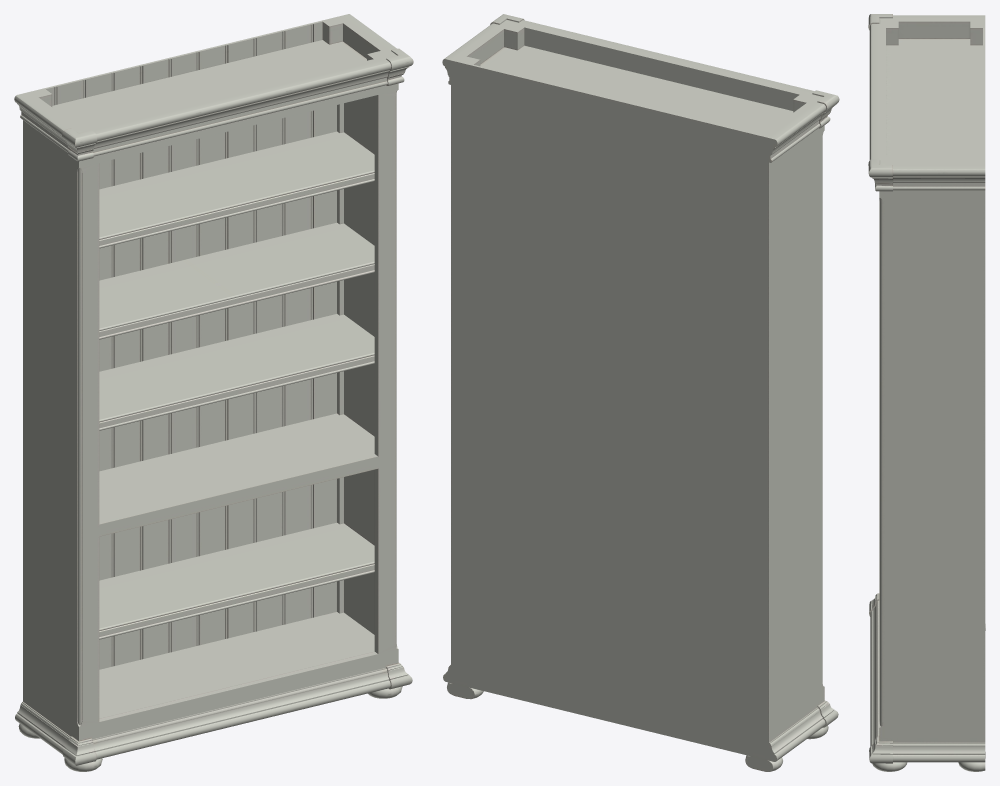
The model's file is example134.glb.
The picture shows the model from 3 angles, left to right: view 1: azimuth 30°, elevation 25°; view 2: azimuth 150°, elevation 25°; view 3: azimuth 270°, elevation 25°; orthographic projection. The views are drawn at different scales.
Visible parts, largest first — view 1: Buffer Layer; view 2: Buffer Layer; view 3: Buffer Layer.
Part boxes in pixels (<box>): Buffer Layer: <box>14,14,413,771</box>; Buffer Layer: <box>442,14,839,771</box>; Buffer Layer: <box>868,14,985,771</box>.
Size of the model in its own units: 1.8 by 3.24 by 0.5677.
Materials: 1 (1 with a texture image).
